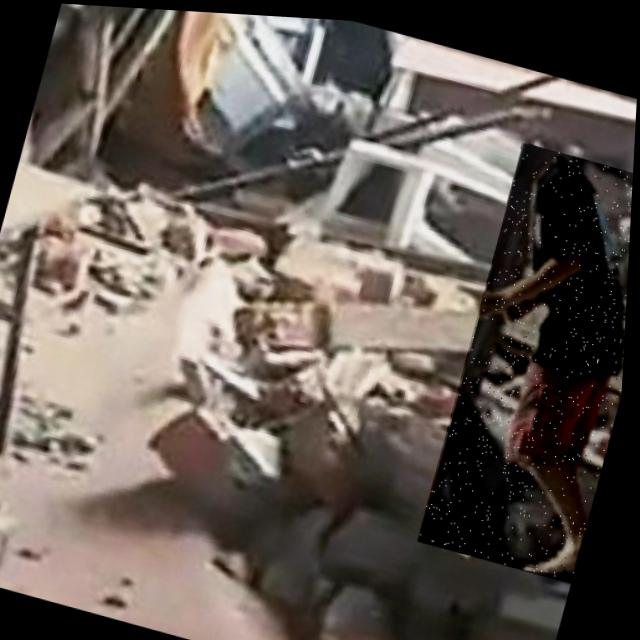Person in Rubble: (421, 132, 635, 578)
